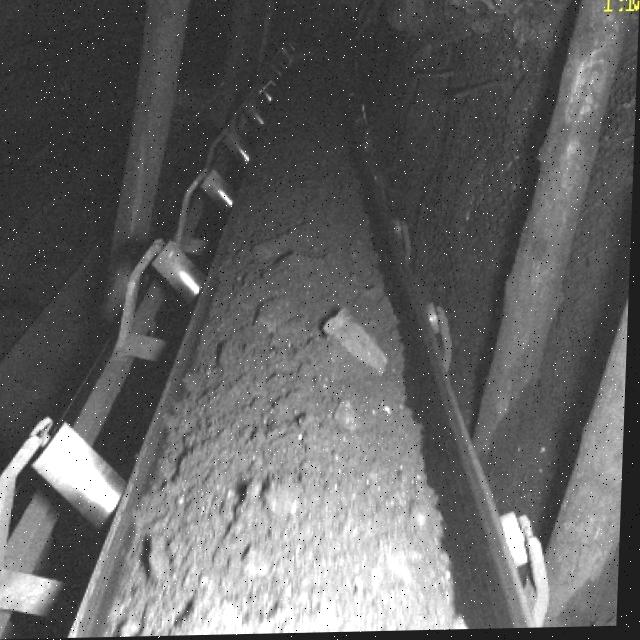large_sized_coal: (327, 313, 394, 376)
